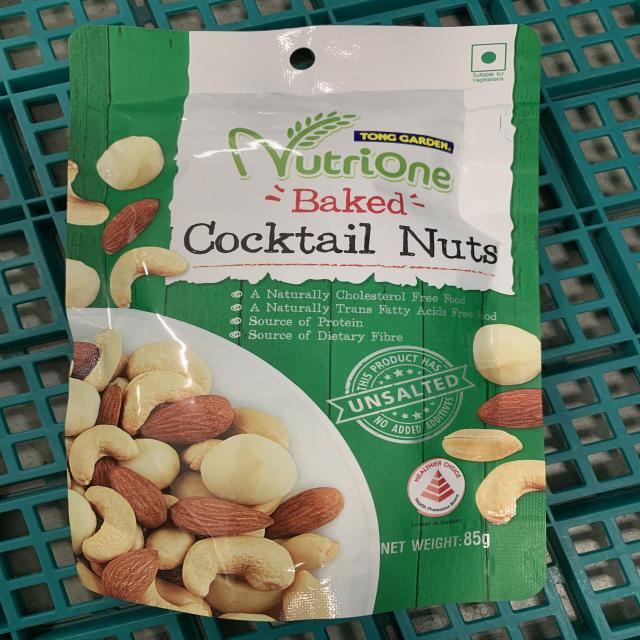object_name: (72, 31, 542, 612)
